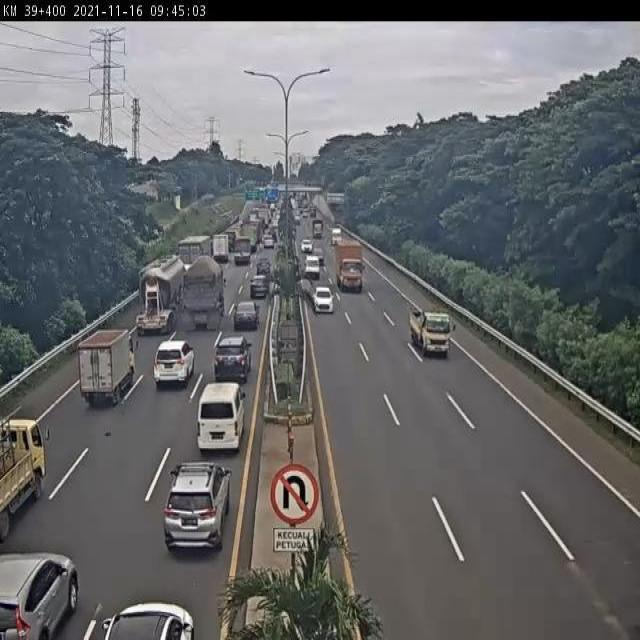Car: (0, 550, 78, 640), (163, 461, 233, 552), (154, 338, 196, 388), (212, 334, 252, 382), (233, 300, 260, 330), (312, 285, 334, 314), (250, 274, 269, 299), (304, 256, 321, 280), (256, 258, 272, 276), (300, 238, 312, 254), (263, 235, 274, 249), (294, 215, 300, 225), (302, 210, 308, 218)
Truck: (0, 425, 55, 524), (78, 328, 135, 408), (137, 256, 185, 334), (181, 255, 226, 331), (398, 304, 460, 358), (336, 235, 367, 295), (310, 206, 317, 218), (270, 202, 276, 214)
Van: (196, 381, 247, 452)
